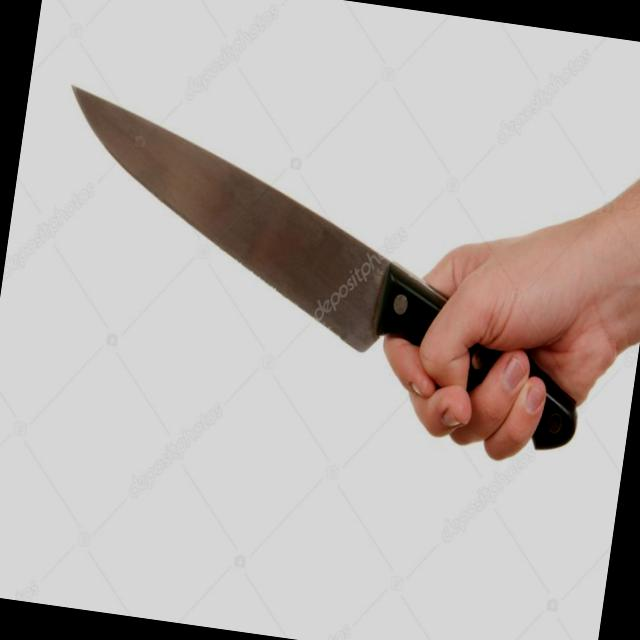knife: (19, 64, 566, 458)
